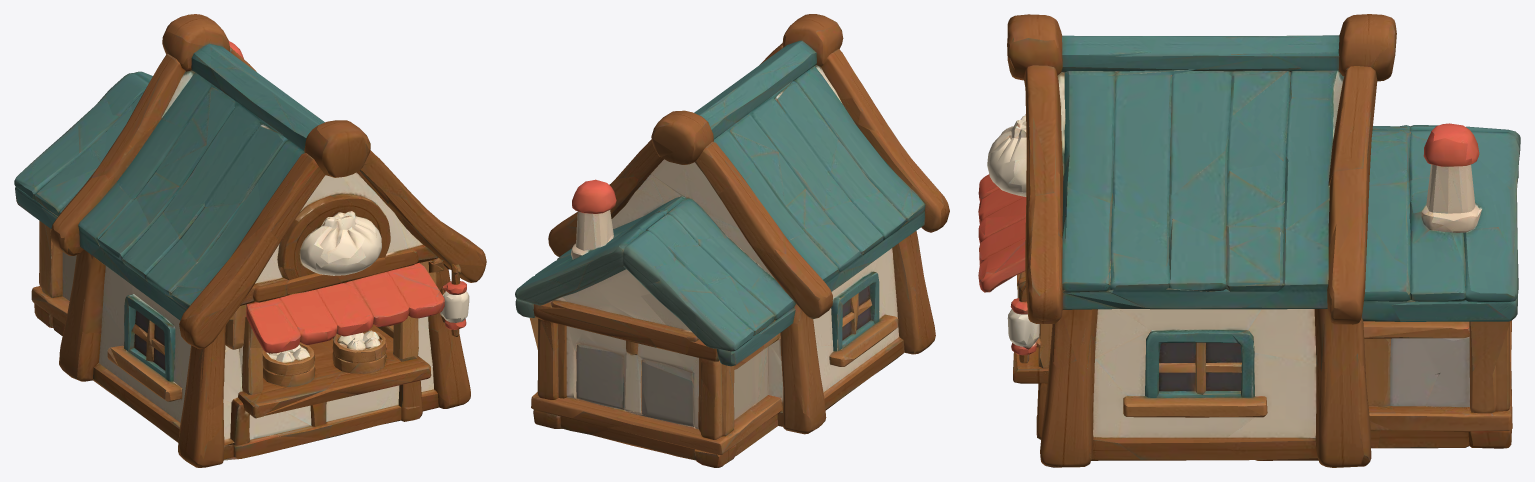
The model's file is dumplingShop.glb.
3 views of the same model, side by side, from view 1: azimuth 30°, elevation 25°; view 2: azimuth 150°, elevation 25°; view 3: azimuth 270°, elevation 25° (orthographic). The views are drawn at different scales.
Parts seen in each view (by area): view 1: Mesh_0; view 2: Mesh_0; view 3: Mesh_0.
Part boxes in pixels (bbox=[...]): Mesh_0: bbox=[14, 14, 486, 467]; Mesh_0: bbox=[515, 14, 949, 467]; Mesh_0: bbox=[978, 14, 1520, 467].
Bounding box in the file's own units: 1.96 × 1.98 × 2.6.
1 material, 1 textured.
